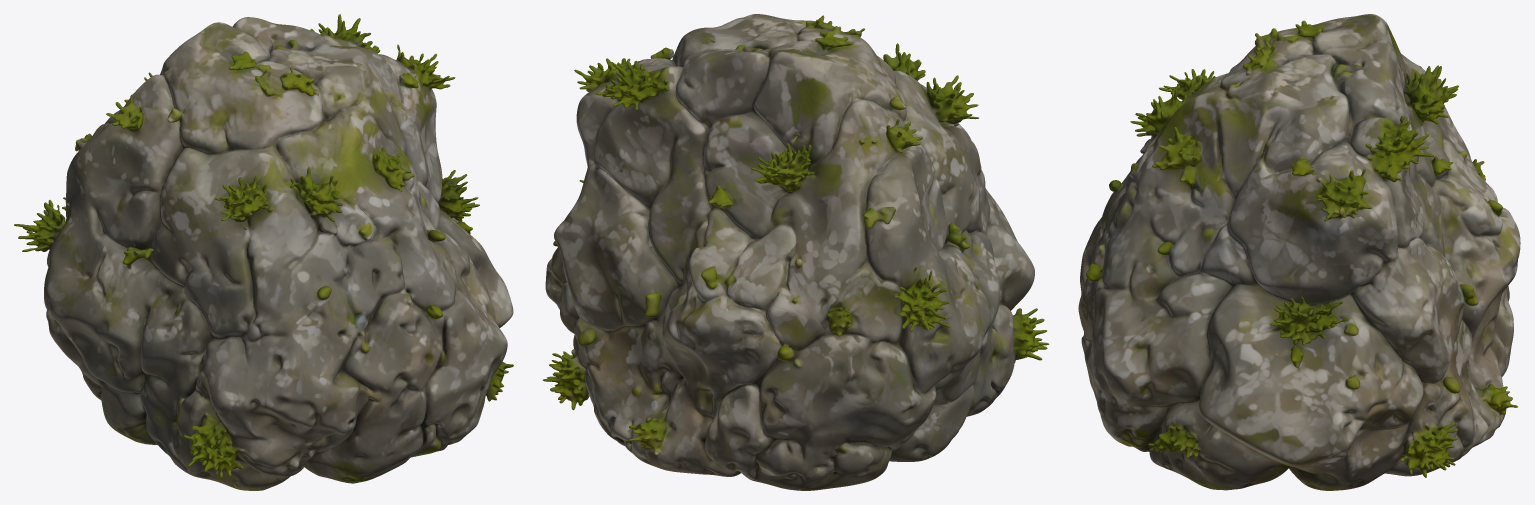
The model's file is env_boulder_moss.glb.
The picture shows the model from 3 angles, left to right: view 1: azimuth 30°, elevation 25°; view 2: azimuth 150°, elevation 25°; view 3: azimuth 270°, elevation 25°; orthographic projection. The views are drawn at different scales.
Visible parts, largest first — view 1: tripo_node_5f5a647b-546c-43b3-a3c5-a81652d3ce2e; view 2: tripo_node_5f5a647b-546c-43b3-a3c5-a81652d3ce2e; view 3: tripo_node_5f5a647b-546c-43b3-a3c5-a81652d3ce2e.
Part boxes in pixels (x1,y1,x2,y2): tripo_node_5f5a647b-546c-43b3-a3c5-a81652d3ce2e: (14,14,513,490); tripo_node_5f5a647b-546c-43b3-a3c5-a81652d3ce2e: (543,14,1049,490); tripo_node_5f5a647b-546c-43b3-a3c5-a81652d3ce2e: (1078,14,1520,490).
Size of the model in its own units: 1 by 0.8937 by 0.8832.
Materials: 1 (1 with a texture image).
